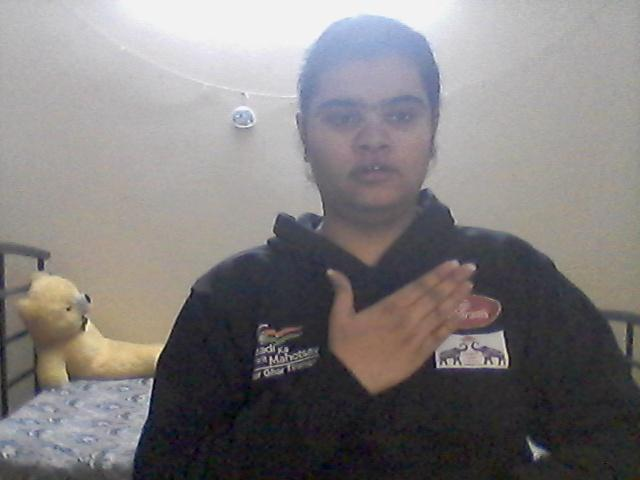please: (311, 251, 485, 395)
